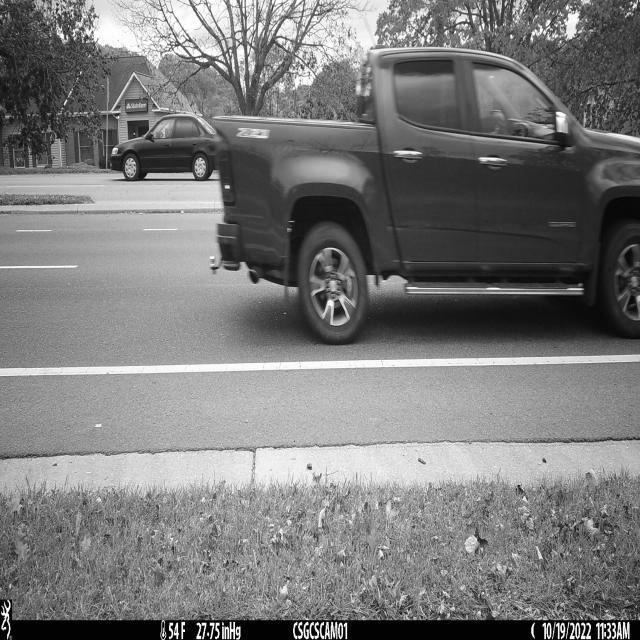Pickup: (209, 45, 640, 346)
